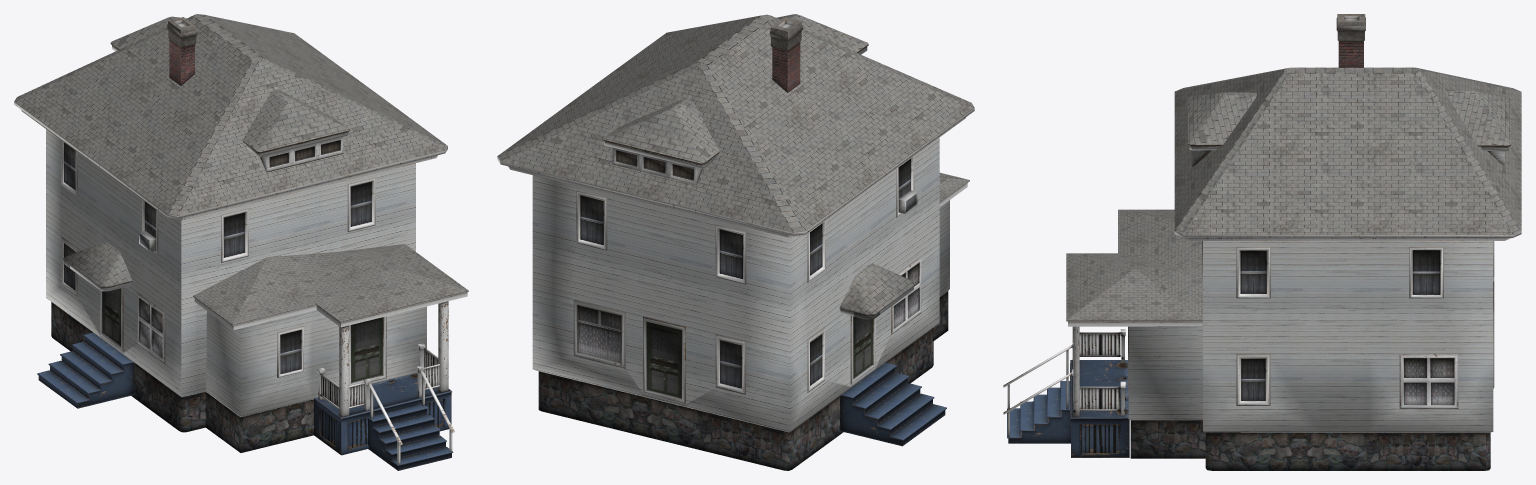
Rendered from house_new_3.glb.
3 views of the same model, side by side, from view 1: azimuth 30°, elevation 25°; view 2: azimuth 150°, elevation 25°; view 3: azimuth 270°, elevation 25° (orthographic). The views are drawn at different scales.
Parts seen in each view (by area): view 1: house_House_Side_D_0; view 2: house_House_Side_D_0; view 3: house_House_Side_D_0.
Part boxes in pixels (box(x1,y1,x2,y2)): house_House_Side_D_0: box(14, 14, 468, 470); house_House_Side_D_0: box(497, 14, 974, 470); house_House_Side_D_0: box(1003, 14, 1521, 470).
Size of the model in its own units: 6.1 by 6.4 by 8.16.
Materials: 3 (3 with a texture image).
